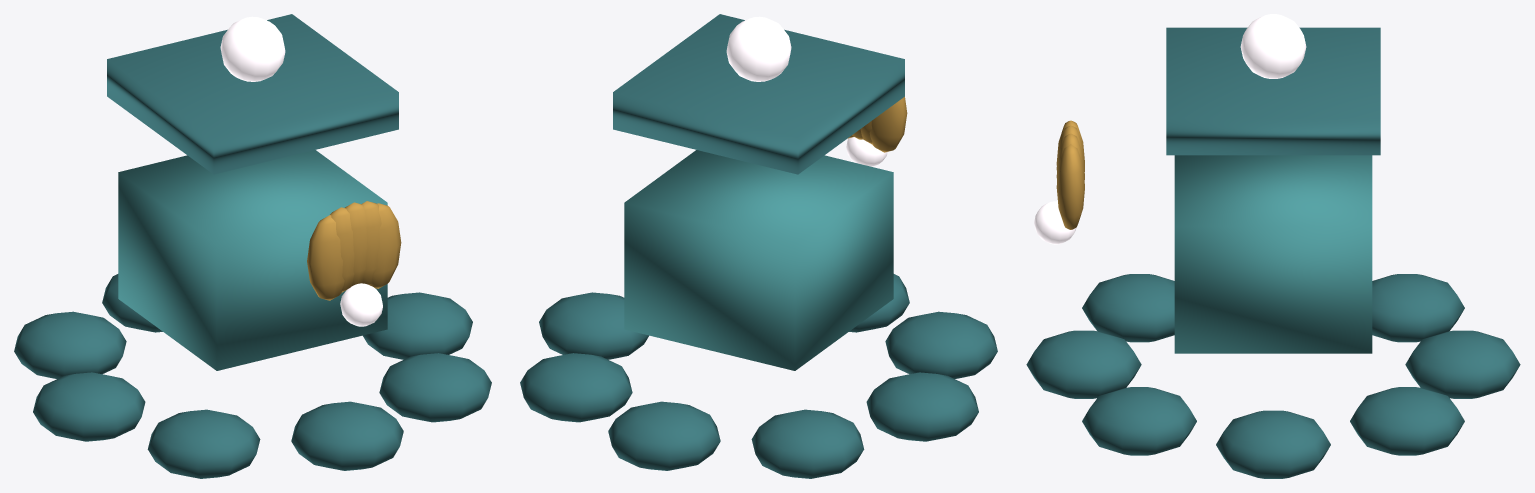
The model's file is opera_detective_box_1.glb.
3 views of the same model, side by side, from view 1: azimuth 30°, elevation 25°; view 2: azimuth 150°, elevation 25°; view 3: azimuth 270°, elevation 25° (orthographic).
Visible parts, largest first — view 1: VisualMesh.001, LidTop.001, LidPearl; view 2: VisualMesh.001, LidTop.001, LidPearl; view 3: VisualMesh.001, LidTop.001, LidPearl.
Part boxes in pixels (box(x1,y1,x2,y2)): VisualMesh.001: box(14, 150, 491, 478); LidTop.001: box(107, 14, 398, 174); LidPearl: box(220, 16, 285, 81); VisualMesh.001: box(520, 96, 997, 478); LidTop.001: box(613, 14, 904, 174); LidPearl: box(726, 16, 791, 81); VisualMesh.001: box(1026, 120, 1520, 478); LidTop.001: box(1166, 27, 1380, 155); LidPearl: box(1240, 14, 1306, 78).
Size of the model in its own units: 2.97 by 2.5 by 3.
